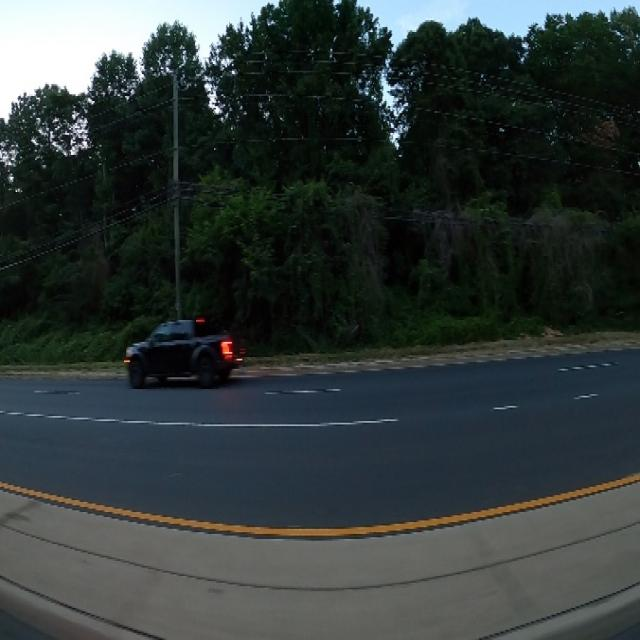Cars: (120, 322, 245, 398)
